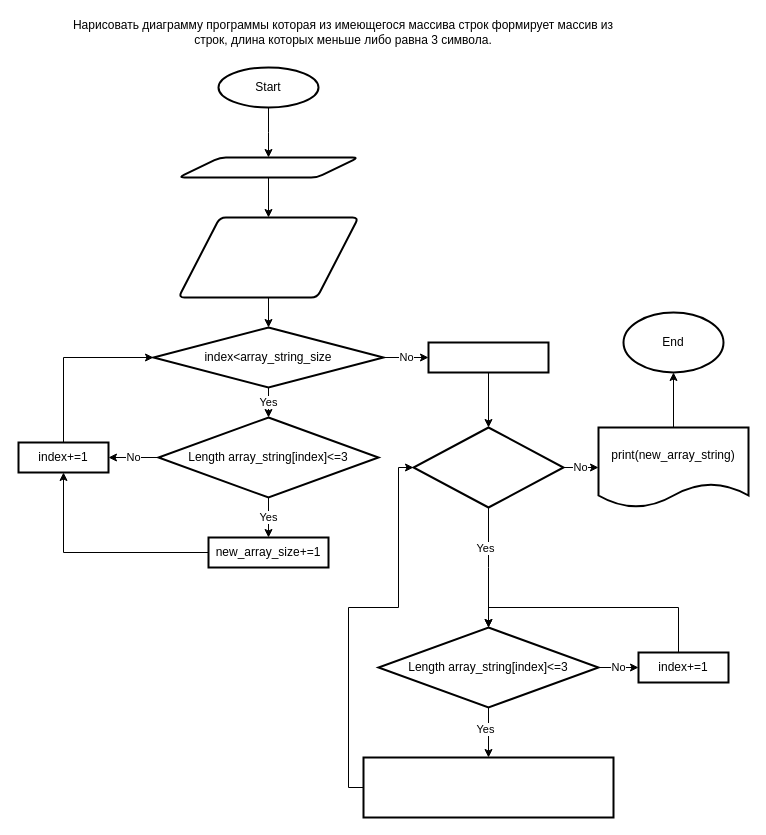
This 766x835 diagram has some shape labels left out. Each missing label, with the centre of its shape:
"array_strings" belongs at (268,167).
"array_strings_size new_array_string_size index=0 new_array_size=0 index2=0" belongs at (268,257).
"index2<new_array_size" belongs at (488,467).
"index=0" belongs at (488,357).
"new_array_string[index2]=array_string[index] index+=1 index2+=1" belongs at (488,787).
